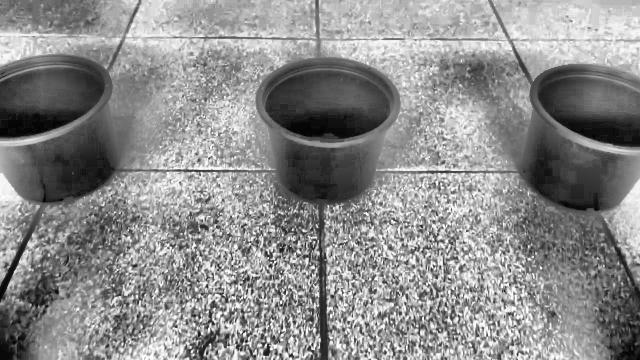pot: (256, 57, 400, 204), (0, 54, 120, 204), (520, 64, 640, 212)
